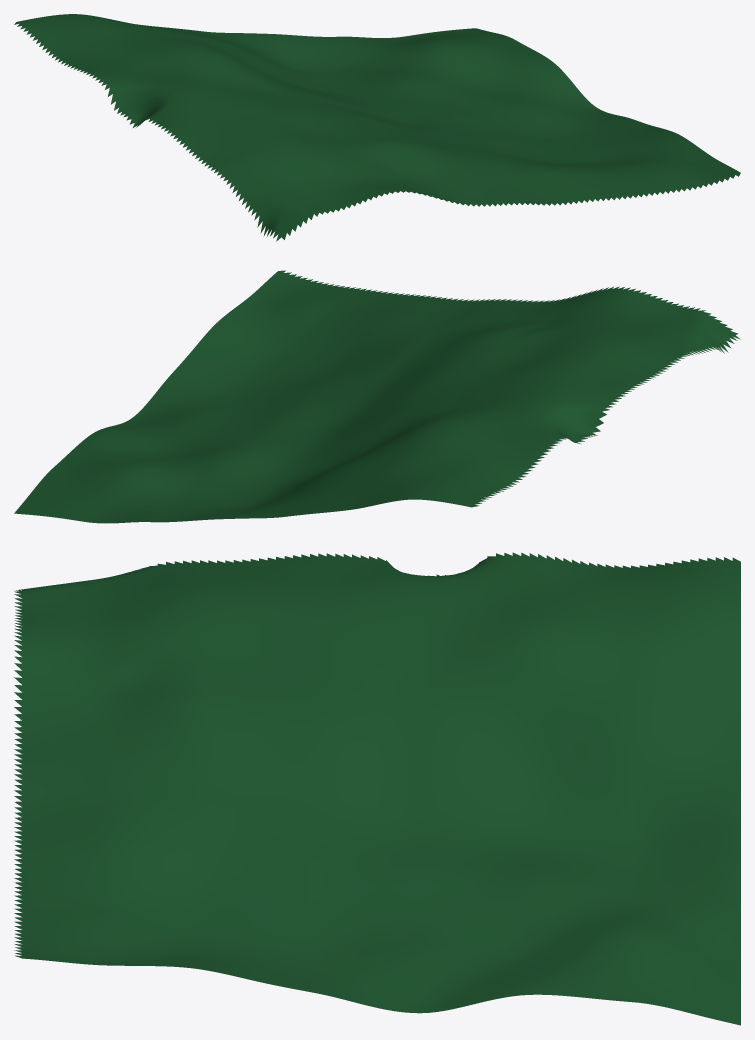
File: payo_land_xm2_ym2.glb
The picture shows the model from 3 angles, top to bottom: view 1: azimuth 30°, elevation 25°; view 2: azimuth 150°, elevation 25°; view 3: azimuth 270°, elevation 25°; orthographic projection. The views are drawn at different scales.
Parts seen in each view (by area): view 1: payo_land_xm2_ym2; view 2: payo_land_xm2_ym2; view 3: payo_land_xm2_ym2.
Boxes of the visible parts, x1,y1,x2,y2 form: payo_land_xm2_ym2: (14,14,740,241); payo_land_xm2_ym2: (14,270,740,523); payo_land_xm2_ym2: (14,552,740,1025).
Bounding box in the file's own units: 258 × 66.17 × 258.
